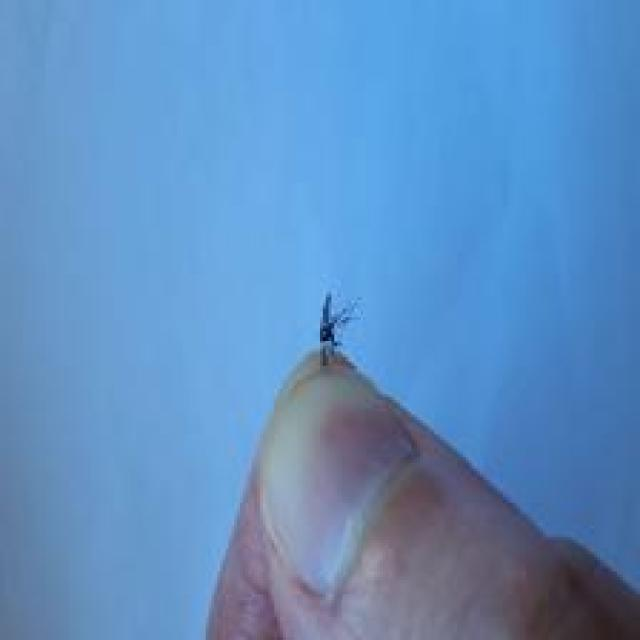Aedes albopictus: (317, 290, 360, 367)
